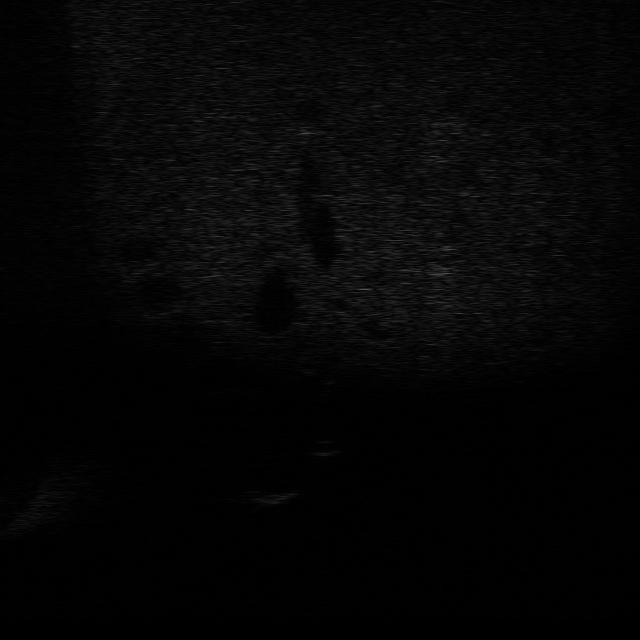ball: (305, 436, 344, 461)
human body: (292, 340, 338, 409)
square cage: (232, 480, 302, 509)
